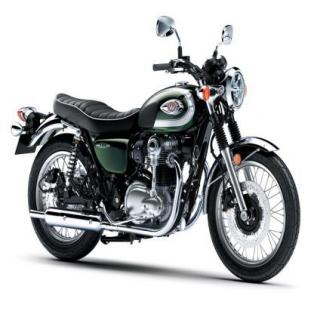Motocicleta: (9, 14, 302, 288)
